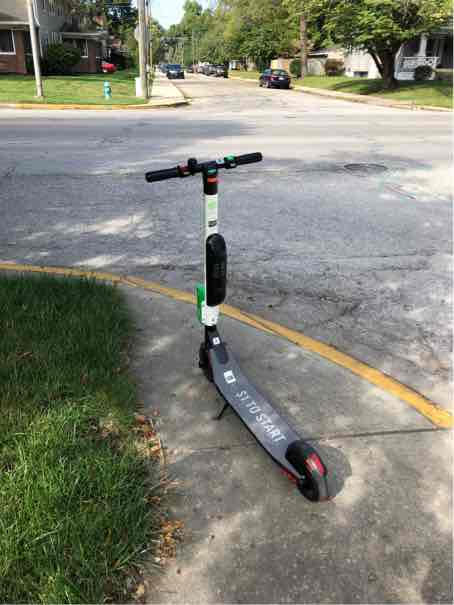scooter: (137, 142, 337, 514)
